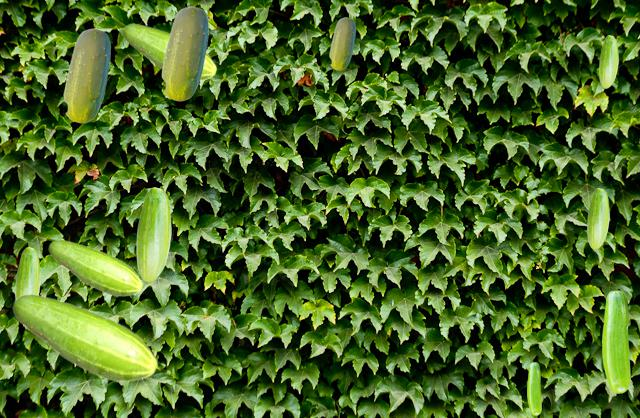cucumber: (12, 293, 157, 382), (122, 23, 216, 80), (48, 239, 142, 296), (161, 6, 207, 100), (63, 28, 109, 122), (136, 187, 170, 281), (602, 290, 629, 392), (329, 17, 354, 69), (587, 188, 608, 248), (15, 247, 39, 297), (599, 35, 617, 87), (527, 362, 540, 414)
